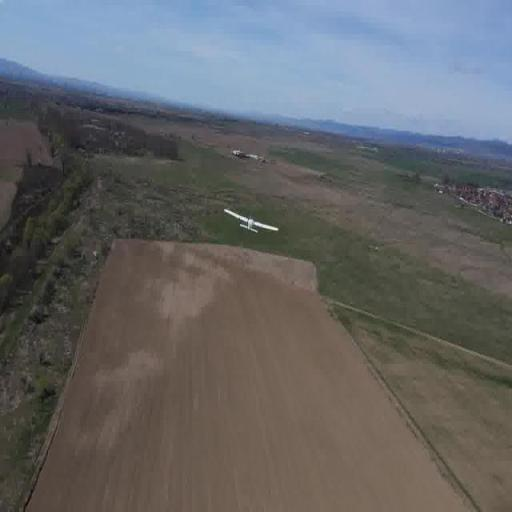uav: (221, 202, 283, 244)
